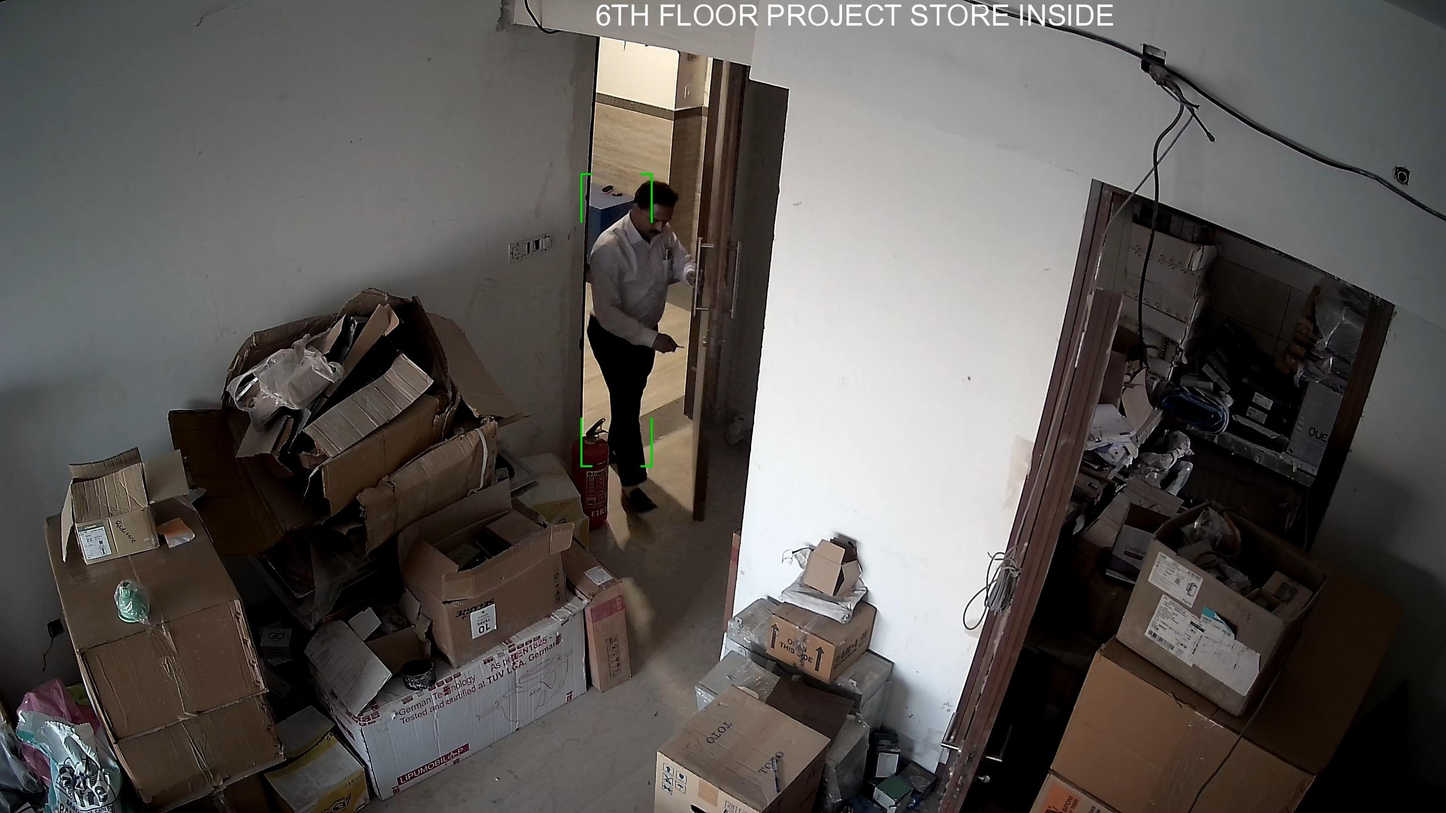Door-Open: (554, 40, 754, 531)
